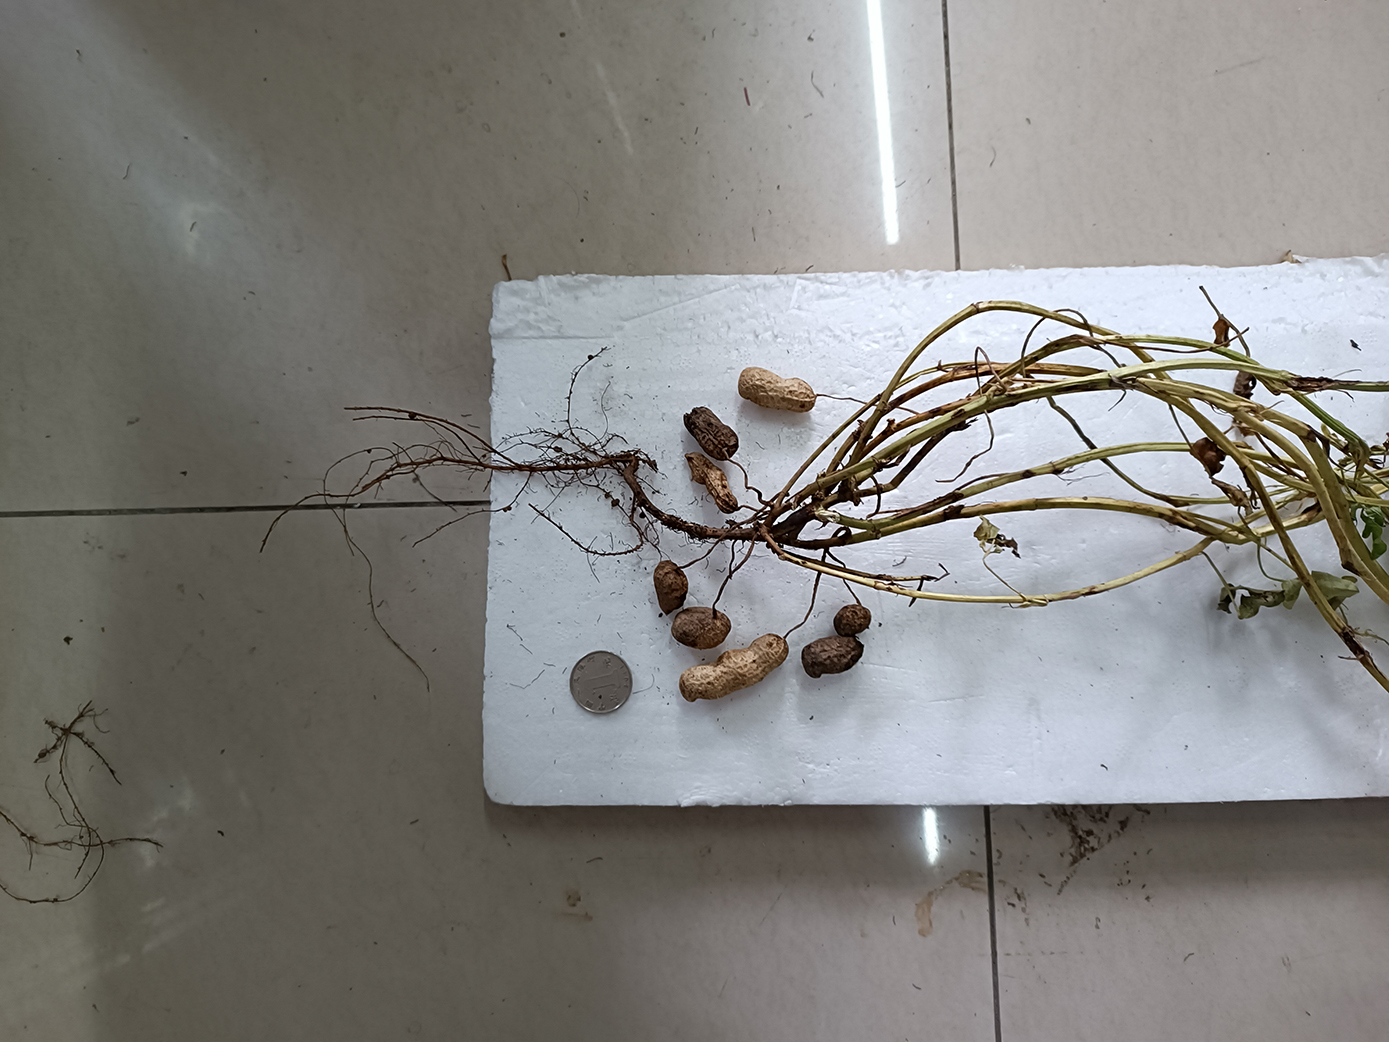h: (680, 633, 791, 704), (739, 364, 817, 414)
l: (686, 452, 740, 514), (681, 405, 740, 460), (801, 633, 866, 679), (671, 607, 732, 648), (653, 563, 688, 612), (831, 602, 873, 635)
